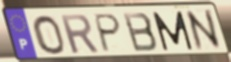B: (121, 11, 160, 54)
M: (150, 10, 195, 53)
N: (183, 7, 224, 53)
O: (31, 14, 67, 56)
P: (93, 12, 123, 54)
R: (57, 13, 101, 55)
